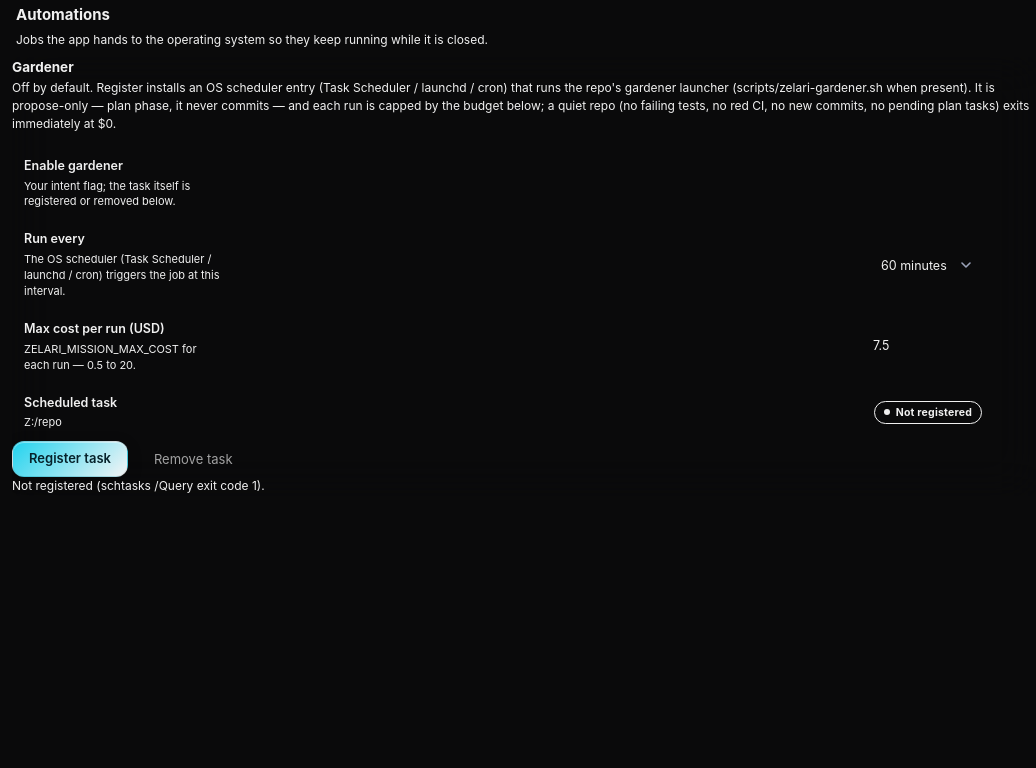
Test case: AutomationsSection — gardener card › registers with the current prefs and shows the next run time
The width and height of the screenshot is (1036, 768).
expect the text "Not registered" is shown: met, box [874,400,982,424]
Click the button "Register task" at (70, 459), box [12,441,128,477]
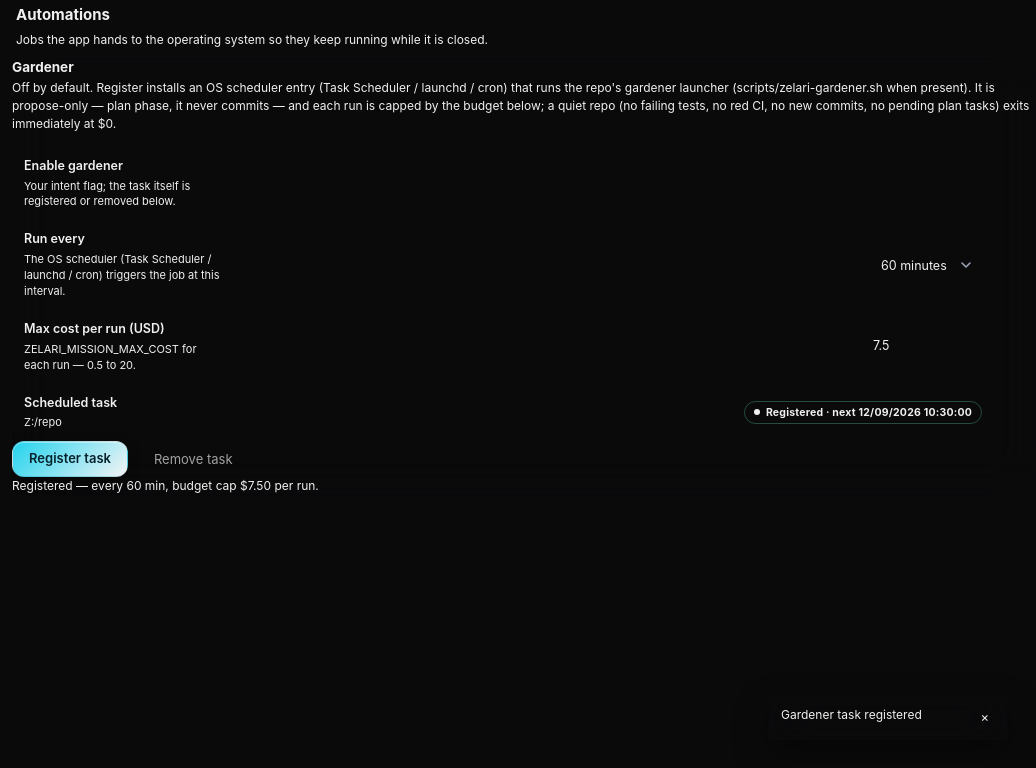
expect the text "Registered · next 12/09/2026 10:30:00" is shown: met, box [744,400,982,424]
